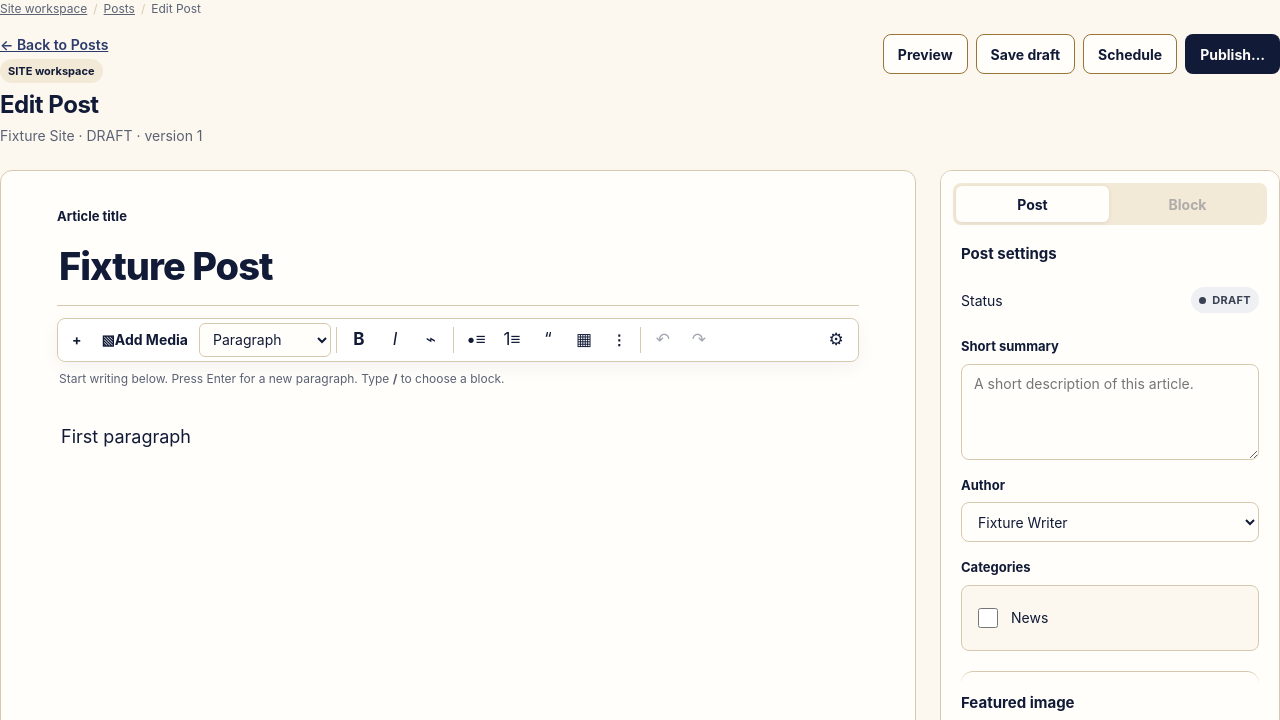
it: Add Media immediately opens the portal media picker above the editor
Expected: the element named "Editor toolbar" is shown, [57,318,859,362]
Click the button "▧Add Media" at (145, 340), box [92,322,197,356]
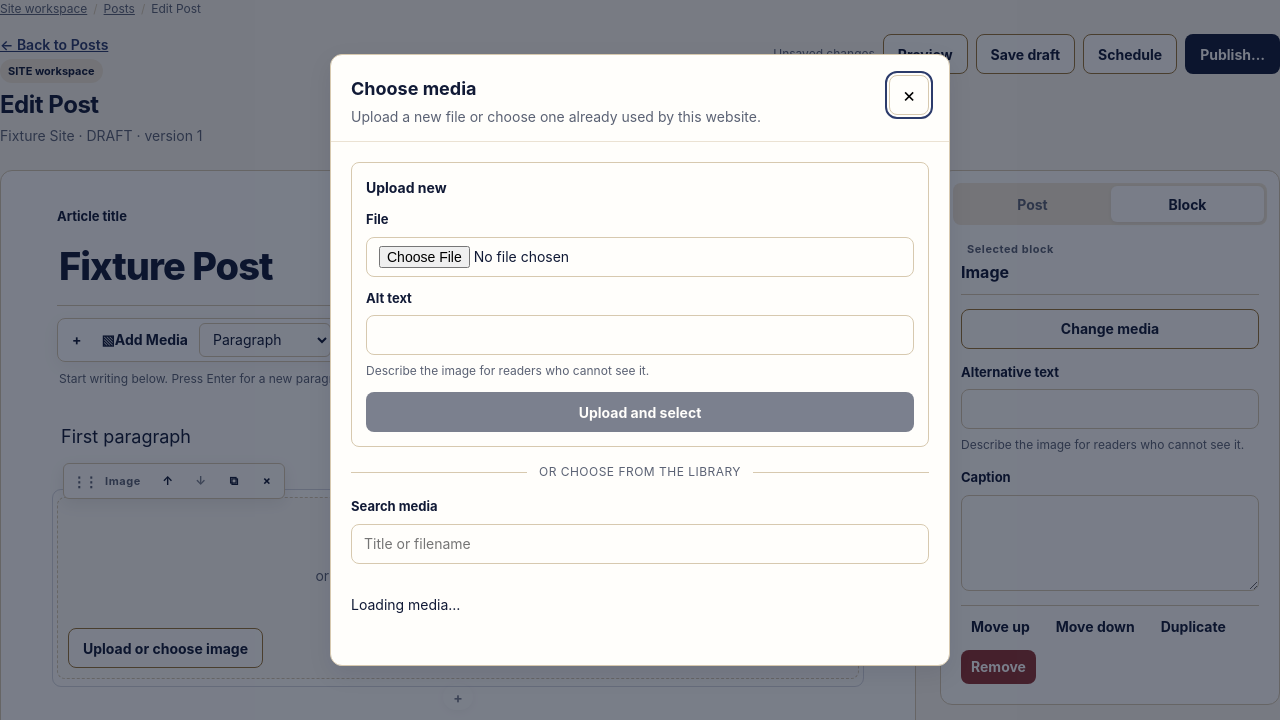
Expected: the element named "Image block 2" is shown, [57,494,859,682]
Click the button named "Close dialog" at (909, 95), box [889,75,929,115]
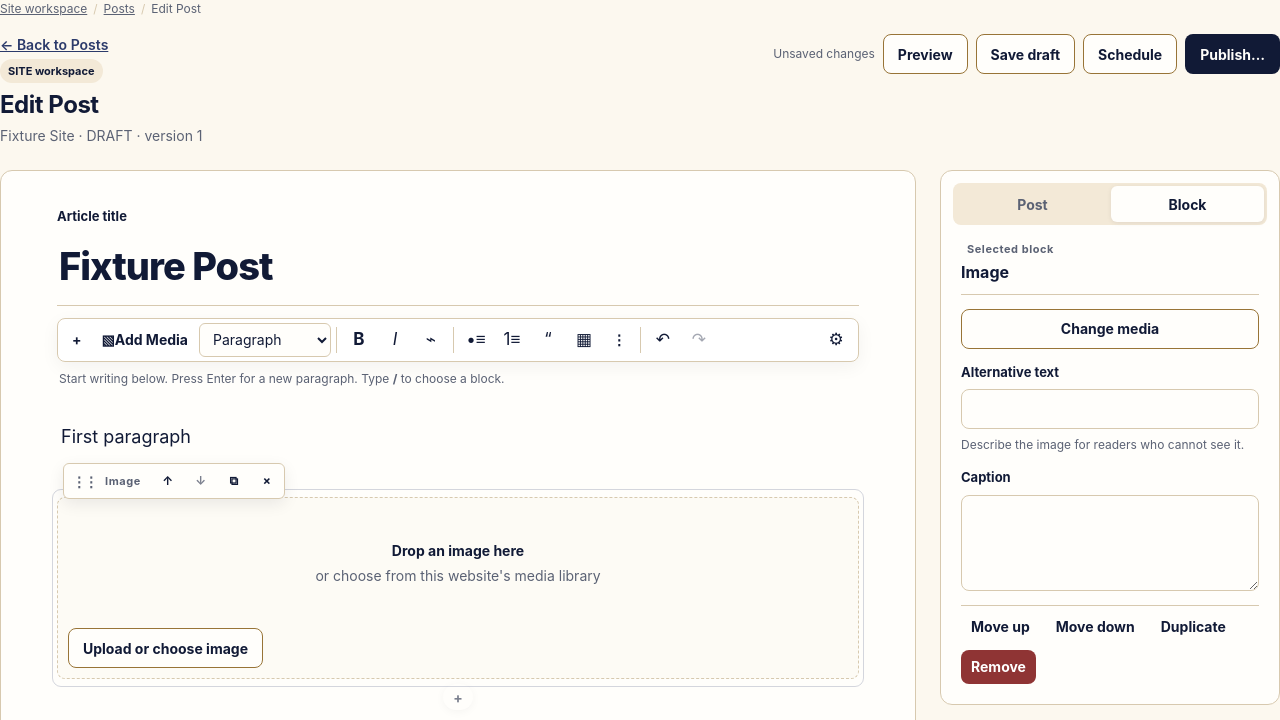
Expected: the heading "Choose media" is gone
